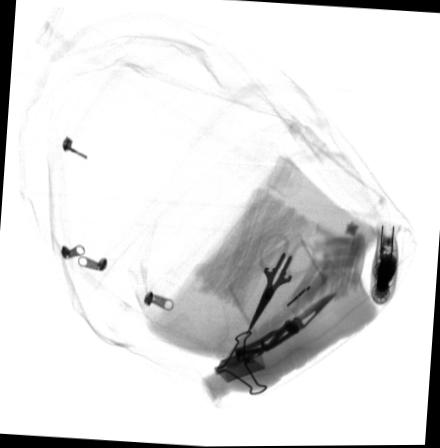Knife: (233, 292, 334, 363)
Scissors: (245, 228, 317, 336)
